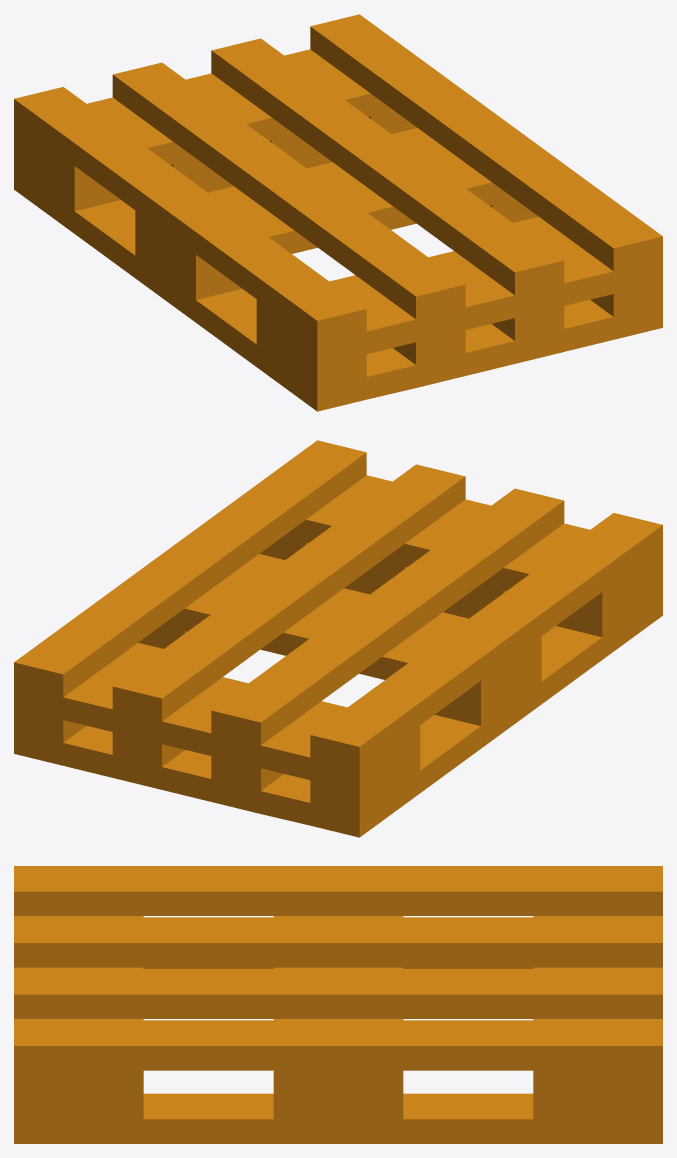
Rendered from PalletF01.fbx.
The picture shows the model from 3 angles, top to bottom: view 1: azimuth 30°, elevation 25°; view 2: azimuth 150°, elevation 25°; view 3: azimuth 270°, elevation 25°; orthographic projection. The views are drawn at different scales.
Visible parts, largest first — view 1: Pallet; view 2: Pallet; view 3: Pallet.
Part boxes in pixels (x1,y1,x2,y2): Pallet: (14,14,662,411); Pallet: (14,440,662,837); Pallet: (14,866,662,1143).
Bounding box in the file's own units: 395 × 99.76 × 600.
